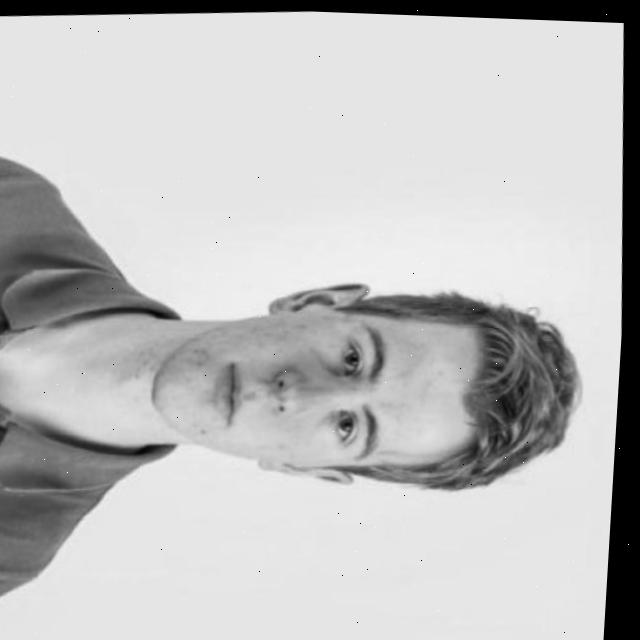Acne: (213, 292, 303, 368)
